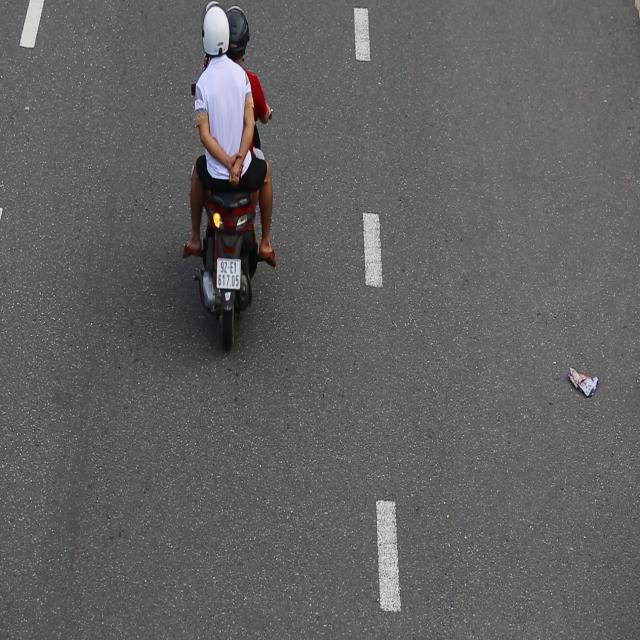motorbike: (182, 4, 281, 357)
